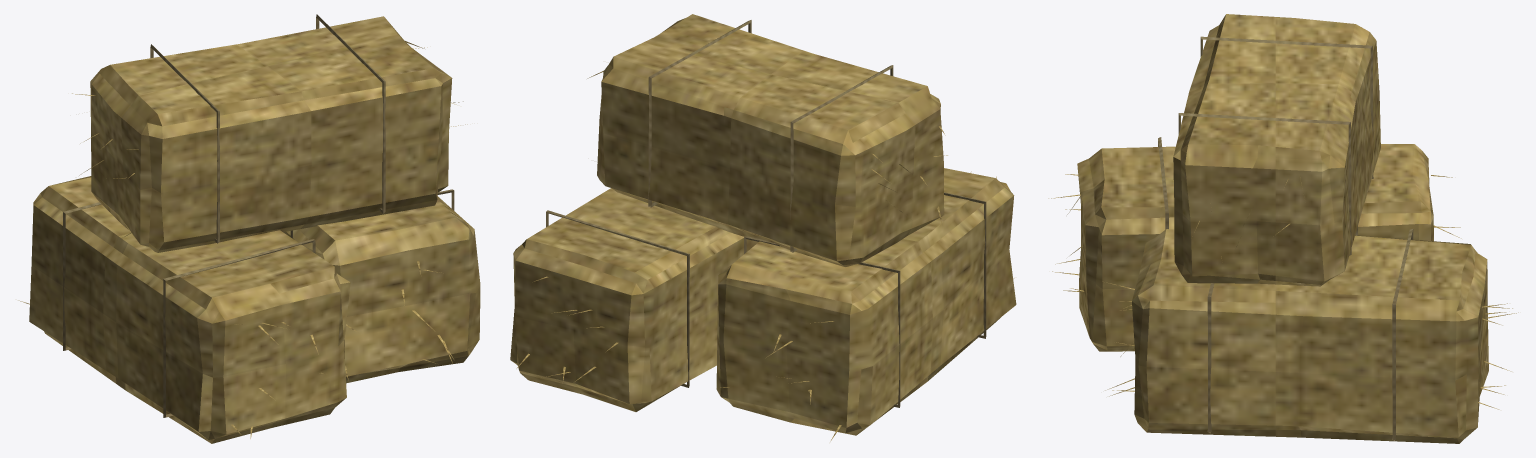
Rendered from pr_hay.glb.
3 views of the same model, side by side, from view 1: azimuth 30°, elevation 25°; view 2: azimuth 150°, elevation 25°; view 3: azimuth 270°, elevation 25° (orthographic). The views are drawn at different scales.
Visible parts, largest first — view 1: pr_hay; view 2: pr_hay; view 3: pr_hay.
Boxes of the visible parts, bbox=[...] form: pr_hay: bbox=[18, 14, 480, 443]; pr_hay: bbox=[510, 14, 1016, 441]; pr_hay: bbox=[1048, 14, 1518, 443].
Size of the model in its own units: 1.15 by 0.9089 by 1.36.
1 material, 1 textured.
